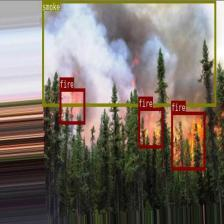fire: (171, 112, 205, 170), (138, 107, 163, 148), (59, 88, 85, 124)
smoke: (41, 0, 215, 105)
